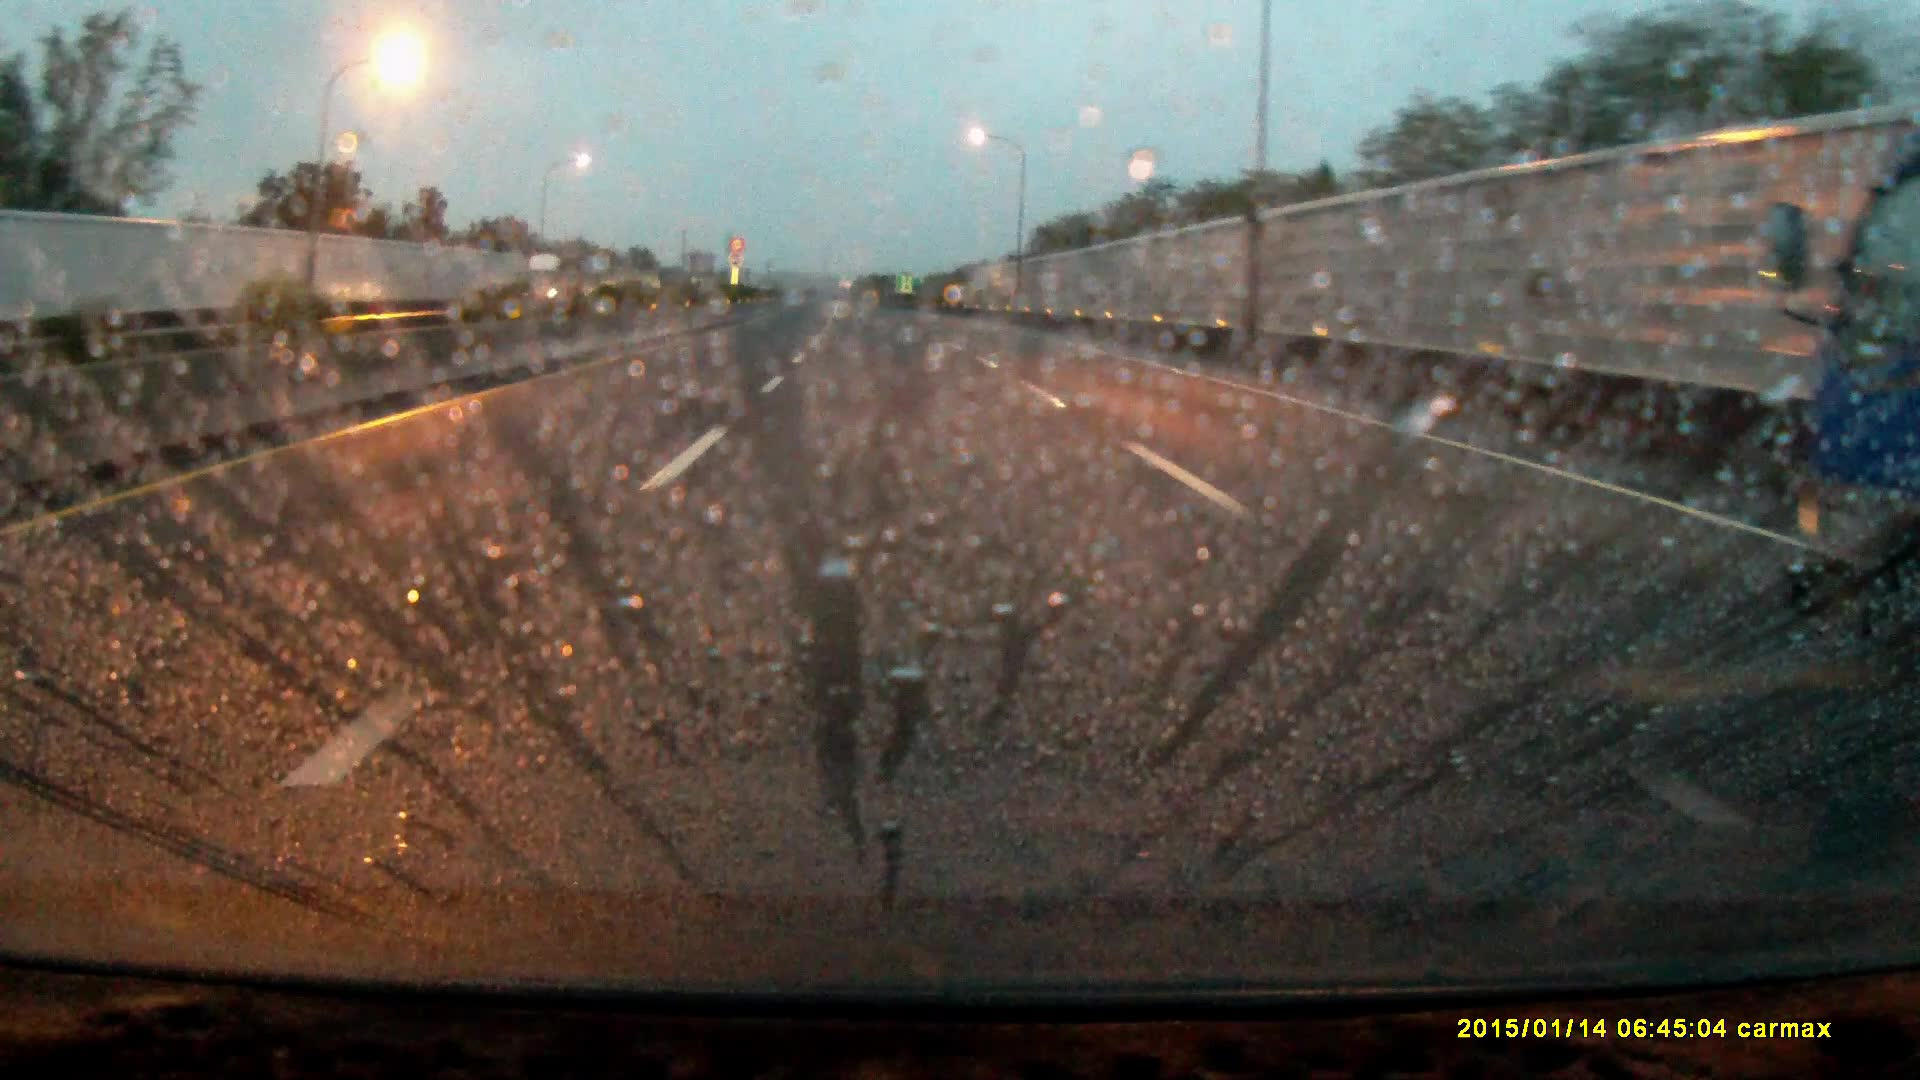vehicle: (518, 255, 576, 311)
